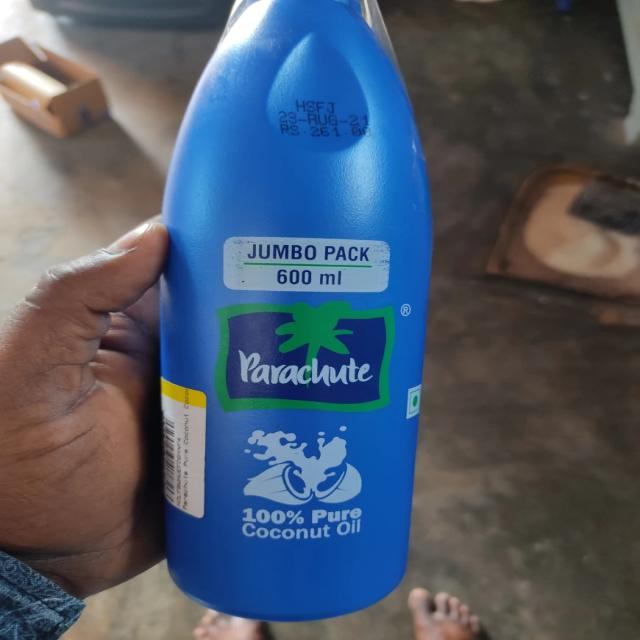parachute_oil: (146, 0, 440, 620)
